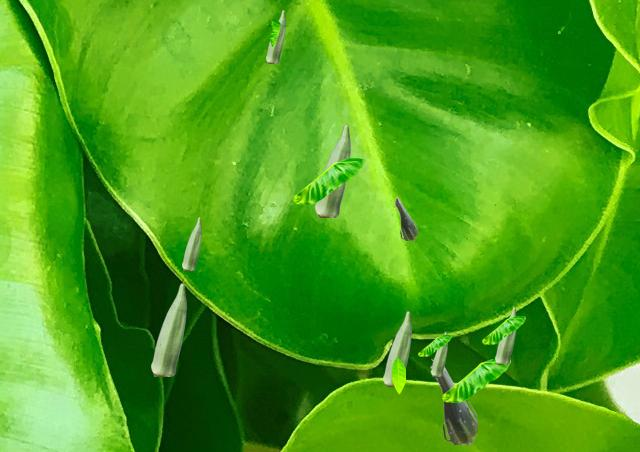okra: (430, 358, 476, 443), (151, 283, 185, 375), (315, 124, 349, 216), (383, 311, 410, 385), (495, 307, 515, 363), (394, 196, 416, 239), (266, 10, 284, 62), (182, 217, 200, 269), (431, 332, 446, 375)
